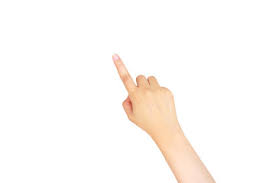hand: (112, 50, 185, 142)
